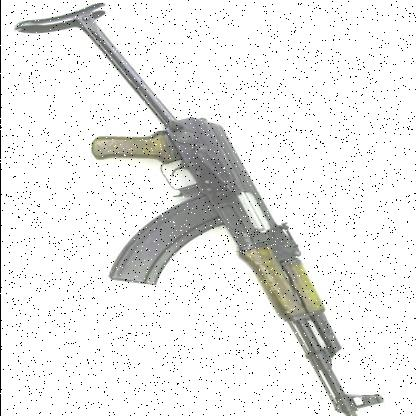rifle: (17, 5, 386, 401)
